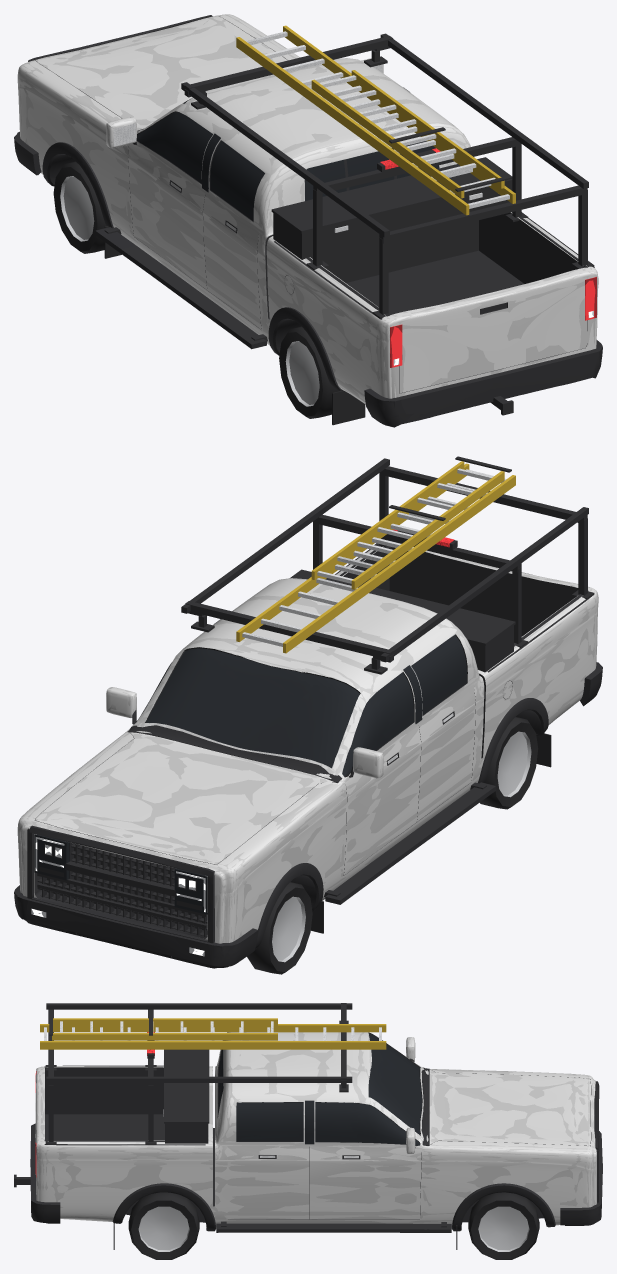
Rendered from road_work_truck.glb.
3 renders of one model, top to bottom at view 1: azimuth 30°, elevation 25°; view 2: azimuth 150°, elevation 25°; view 3: azimuth 270°, elevation 25°, orthographic. The views are drawn at different scales.
Visible parts, largest first — view 1: road_work_truck, road_work_truck_far; view 2: road_work_truck, road_work_truck_far; view 3: road_work_truck, road_work_truck_far.
Boxes of the visible parts, box(x1,y1,x2,y2) form: road_work_truck: box(14, 14, 602, 424); road_work_truck_far: box(14, 14, 602, 427); road_work_truck: box(14, 456, 602, 968); road_work_truck_far: box(14, 457, 602, 974); road_work_truck: box(14, 1003, 602, 1249); road_work_truck_far: box(14, 1003, 602, 1259).
Bounding box in the file's own units: 2.54 × 2.31 × 6.26.
